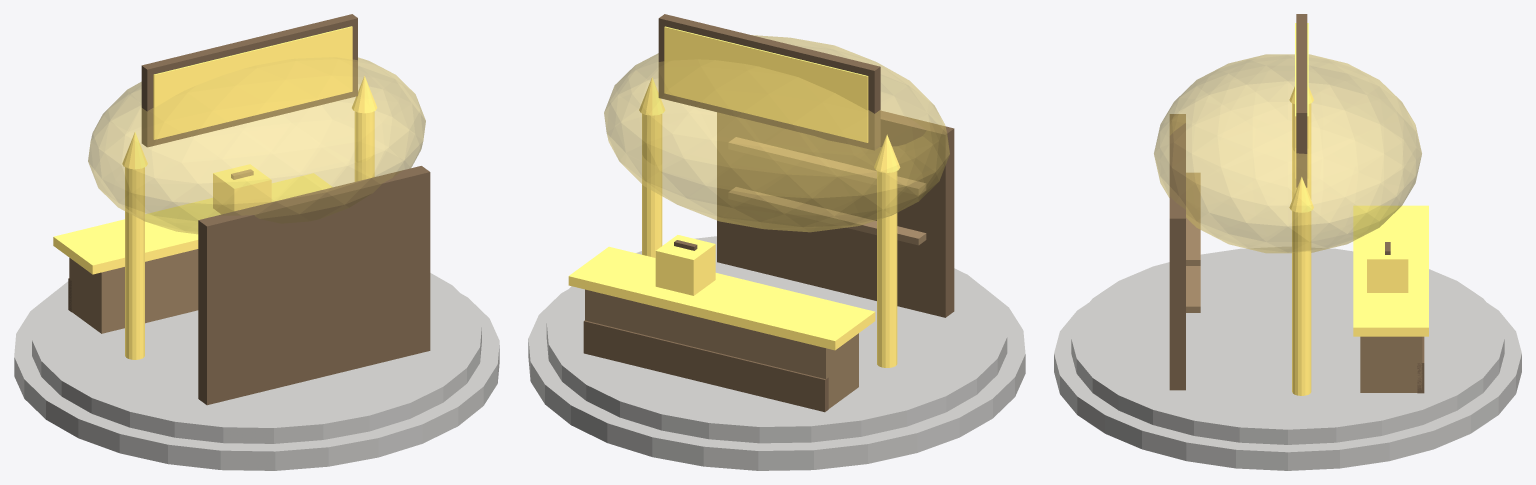
File: booth_gold.fbx
3 views of the same model, side by side, from view 1: azimuth 30°, elevation 25°; view 2: azimuth 150°, elevation 25°; view 3: azimuth 270°, elevation 25° (orthographic). The views are drawn at different scales.
Parts seen in each view (by area): view 1: Canopy, Back_Wall, Base_Upper, Base_Lower, Sign_Board, Counter_Top, Counter_Body, Sign_Frame, Pillar_L, DonationBox, Pillar_R, Flag_L (+1 smaller); view 2: Canopy, Base_Upper, Back_Wall, Base_Lower, Sign_Board, Counter_Top, Counter_Body, Counter_Skirt, Sign_Frame, Pillar_L, DonationBox, Pillar_R (+4 smaller); view 3: Base_Upper, Canopy, Base_Lower, Counter_Top, Back_Wall, Pillar_R, Counter_Body, DonationBox, Sign_Frame, Back_Shelf2, Back_Shelf, Sign_Board (+2 smaller).
Boxes of the visible parts, x1,y1,x2,y2 form: Canopy: [88, 57, 425, 234]; Back_Wall: [198, 166, 430, 405]; Base_Upper: [32, 273, 481, 443]; Base_Lower: [14, 293, 499, 470]; Sign_Board: [153, 26, 352, 139]; Counter_Top: [53, 173, 332, 274]; Counter_Body: [69, 249, 198, 333]; Sign_Frame: [141, 14, 357, 147]; Pillar_L: [125, 167, 144, 359]; DonationBox: [213, 164, 271, 214]; Pillar_R: [354, 111, 374, 181]; Flag_L: [122, 132, 147, 169]; Canopy: [604, 35, 949, 232]; Base_Upper: [546, 236, 1007, 443]; Back_Wall: [717, 110, 954, 317]; Base_Lower: [528, 287, 1025, 470]; Sign_Board: [664, 26, 868, 142]; Counter_Top: [568, 246, 875, 350]; Counter_Body: [585, 289, 858, 408]; Counter_Skirt: [583, 320, 828, 412]; Sign_Frame: [658, 14, 880, 150]; Pillar_L: [877, 171, 897, 367]; DonationBox: [655, 235, 715, 295]; Pillar_R: [642, 113, 662, 257]; Base_Upper: [1071, 247, 1504, 444]; Canopy: [1154, 54, 1421, 253]; Base_Lower: [1054, 303, 1521, 470]; Counter_Top: [1353, 205, 1428, 336]; Back_Wall: [1169, 114, 1185, 390]; Pillar_R: [1292, 211, 1311, 395]; Counter_Body: [1360, 336, 1422, 392]; DonationBox: [1367, 241, 1408, 292]; Sign_Frame: [1296, 14, 1307, 187]; Back_Shelf2: [1186, 173, 1200, 265]; Back_Shelf: [1186, 266, 1200, 312]; Sign_Board: [1295, 23, 1308, 178].
Bounding box in the file's own units: 6.8 × 4.95 × 6.8.
